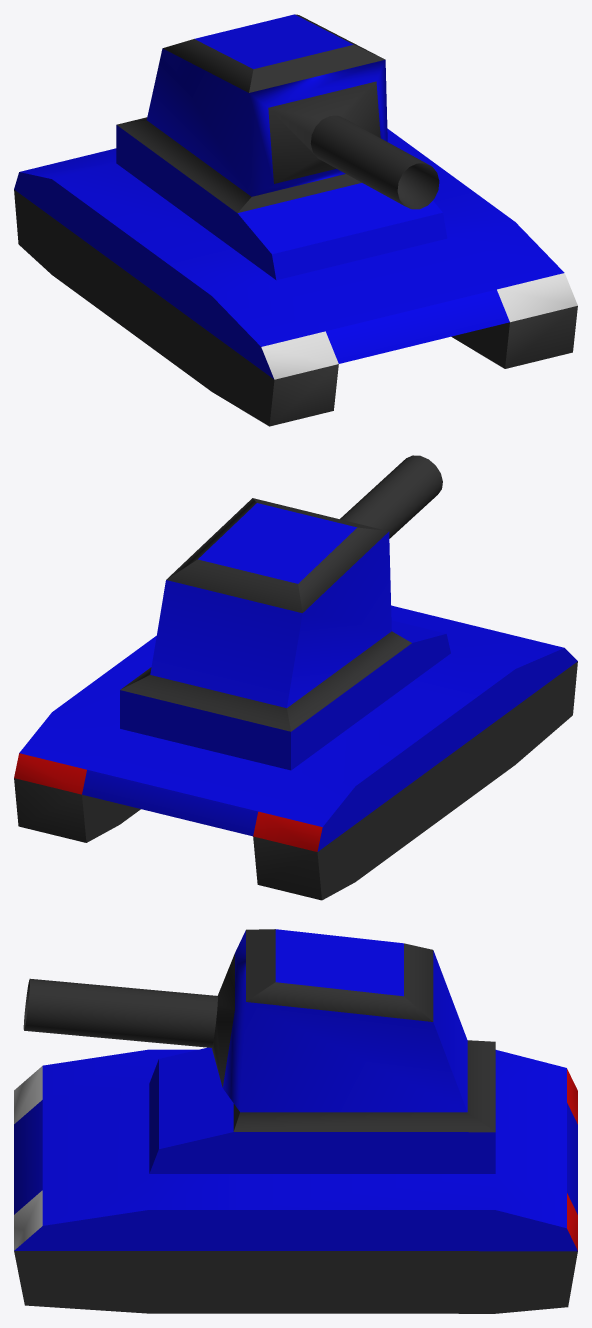
Rendered from WarHeavyBlue.fbx.
3 renders of one model, top to bottom at view 1: azimuth 30°, elevation 25°; view 2: azimuth 150°, elevation 25°; view 3: azimuth 270°, elevation 25°, orthographic. The views are drawn at different scales.
Parts seen in each view (by area): view 1: pCylinder2; view 2: pCylinder2; view 3: pCylinder2.
Boxes of the visible parts, box(x1,y1,x2,y2) form: pCylinder2: box(14, 14, 577, 426); pCylinder2: box(14, 455, 577, 900); pCylinder2: box(14, 929, 577, 1313).
Size of the model in its own units: 5.02 by 4.05 by 7.46.
